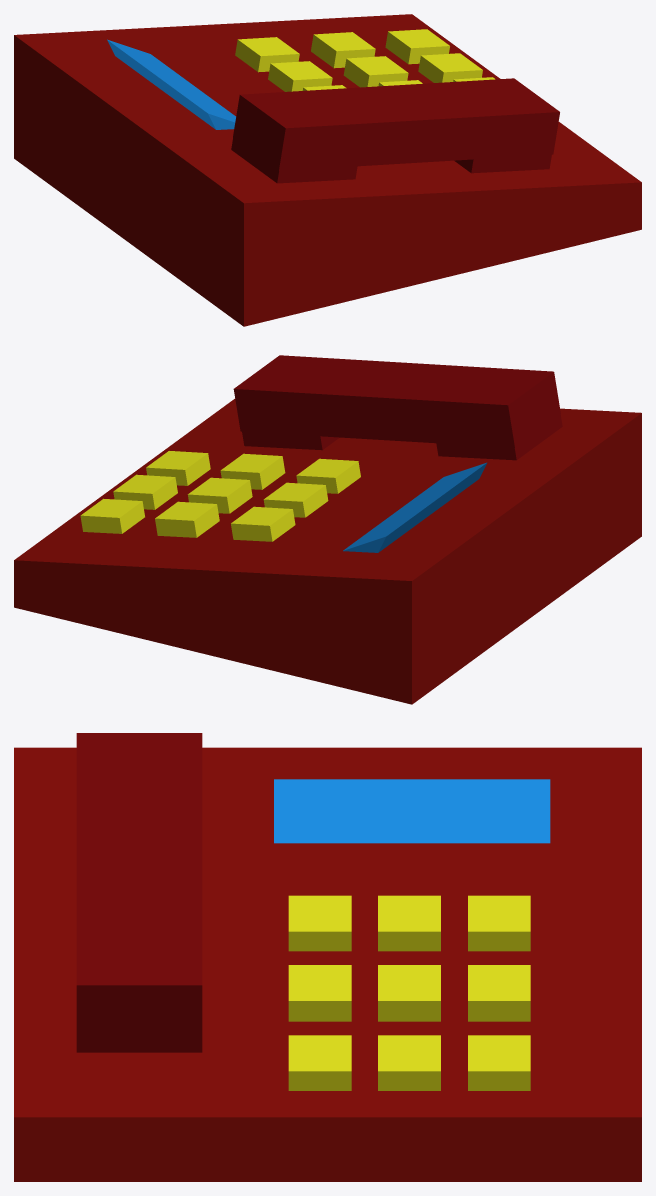
File: Phone.fbx
The picture shows the model from 3 angles, top to bottom: view 1: azimuth 30°, elevation 25°; view 2: azimuth 150°, elevation 25°; view 3: azimuth 270°, elevation 25°; orthographic projection. The views are drawn at different scales.
Visible parts, largest first — view 1: Box, Phone, Screen, Cube.006, Cube.009, Cube.003, Cube.005, Cube.002, Cube.008; view 2: Box, Phone, Screen, Cube.006, Cube.009, Cube.003, Cube.005, Cube.004, Cube.008, Cube.002, Cube.007, Cube.001; view 3: Box, Phone, Screen, Cube.004, Cube.001, Cube.002, Cube.003, Cube.005, Cube.006, Cube.007, Cube.008, Cube.009.
Part boxes in pixels (bbox=[...]): Box: bbox=[14, 14, 641, 326]; Phone: bbox=[231, 78, 559, 183]; Screen: bbox=[107, 39, 235, 129]; Cube.006: bbox=[311, 32, 375, 68]; Cube.009: bbox=[385, 29, 449, 64]; Cube.003: bbox=[235, 37, 299, 72]; Cube.005: bbox=[343, 56, 408, 87]; Cube.002: bbox=[268, 61, 332, 91]; Cube.008: bbox=[418, 53, 482, 82]; Box: bbox=[14, 398, 641, 704]; Phone: bbox=[233, 355, 562, 460]; Screen: bbox=[343, 462, 487, 552]; Cube.006: bbox=[155, 501, 219, 537]; Cube.009: bbox=[80, 498, 144, 533]; Cube.003: bbox=[231, 506, 295, 541]; Cube.005: bbox=[187, 477, 252, 513]; Cube.004: bbox=[220, 453, 285, 489]; Cube.008: bbox=[113, 474, 177, 509]; Cube.002: bbox=[263, 482, 328, 517]; Cube.007: bbox=[146, 451, 210, 485]; Cube.001: bbox=[296, 458, 360, 493]; Box: bbox=[14, 747, 641, 1181]; Phone: bbox=[76, 733, 202, 1052]; Screen: bbox=[274, 779, 550, 843]; Cube.004: bbox=[288, 965, 351, 1021]; Cube.001: bbox=[288, 895, 351, 951]; Cube.002: bbox=[378, 895, 440, 951]; Cube.003: bbox=[468, 895, 530, 951]; Cube.005: bbox=[378, 965, 440, 1021]; Cube.006: bbox=[468, 965, 530, 1021]; Cube.007: bbox=[288, 1035, 351, 1090]; Cube.008: bbox=[378, 1035, 440, 1090]; Cube.009: bbox=[468, 1035, 530, 1090].
Bounding box in the file's own units: 200 × 79.62 × 200.
